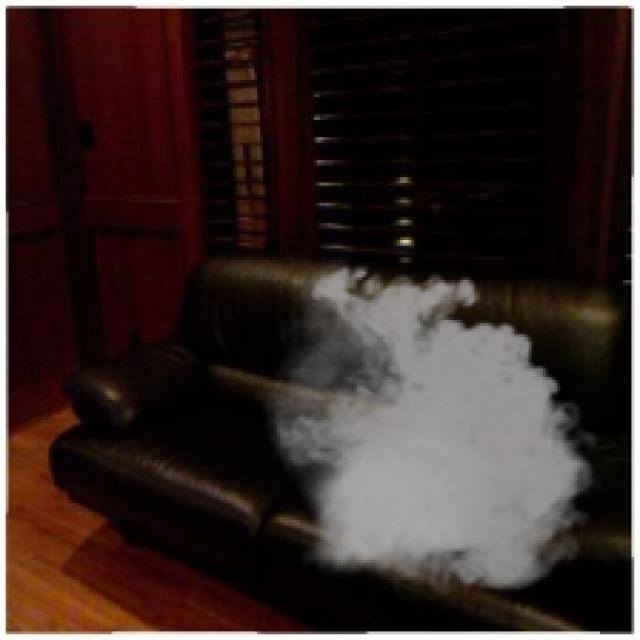smoke: (254, 254, 606, 603)
